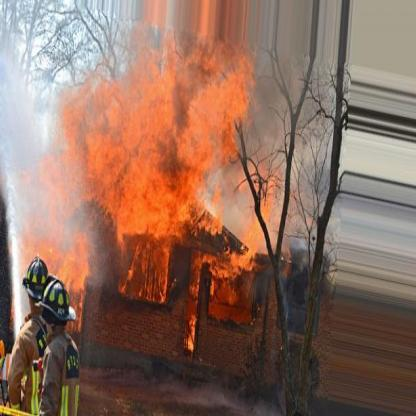fire: (60, 24, 276, 328), (13, 213, 98, 307), (173, 298, 202, 363)
